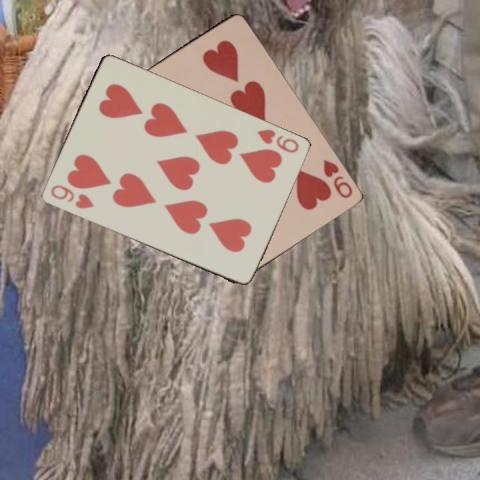9h: (320, 156, 354, 200), (48, 181, 96, 211), (253, 126, 300, 155)
